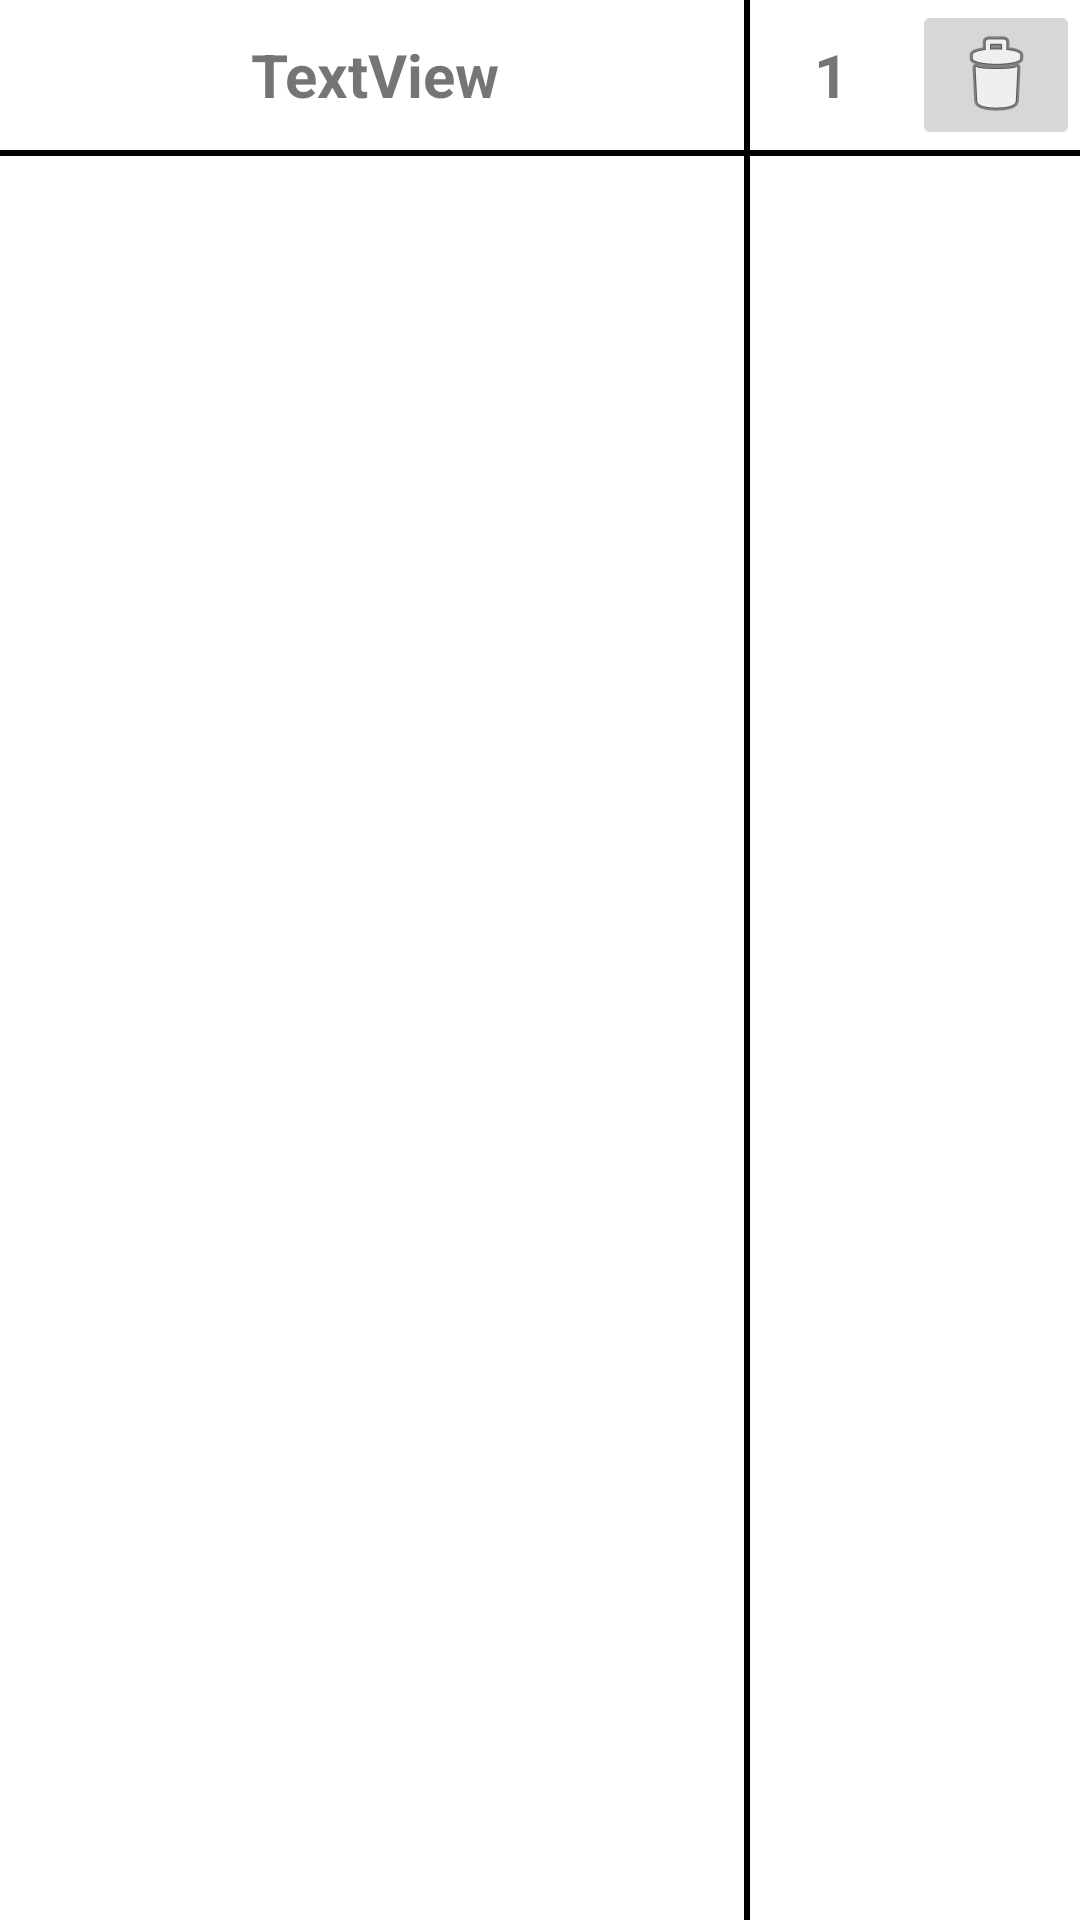

Screen size 1080x1920. Icon name, then its box in pixels as bbox=(x1, y1, x2, y2):
delete: bbox=(924, 18, 1068, 132)
